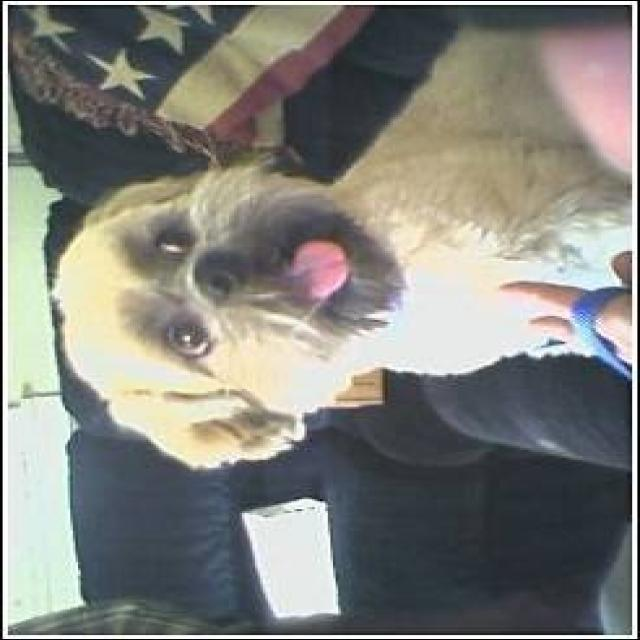dog: (34, 14, 640, 482)
